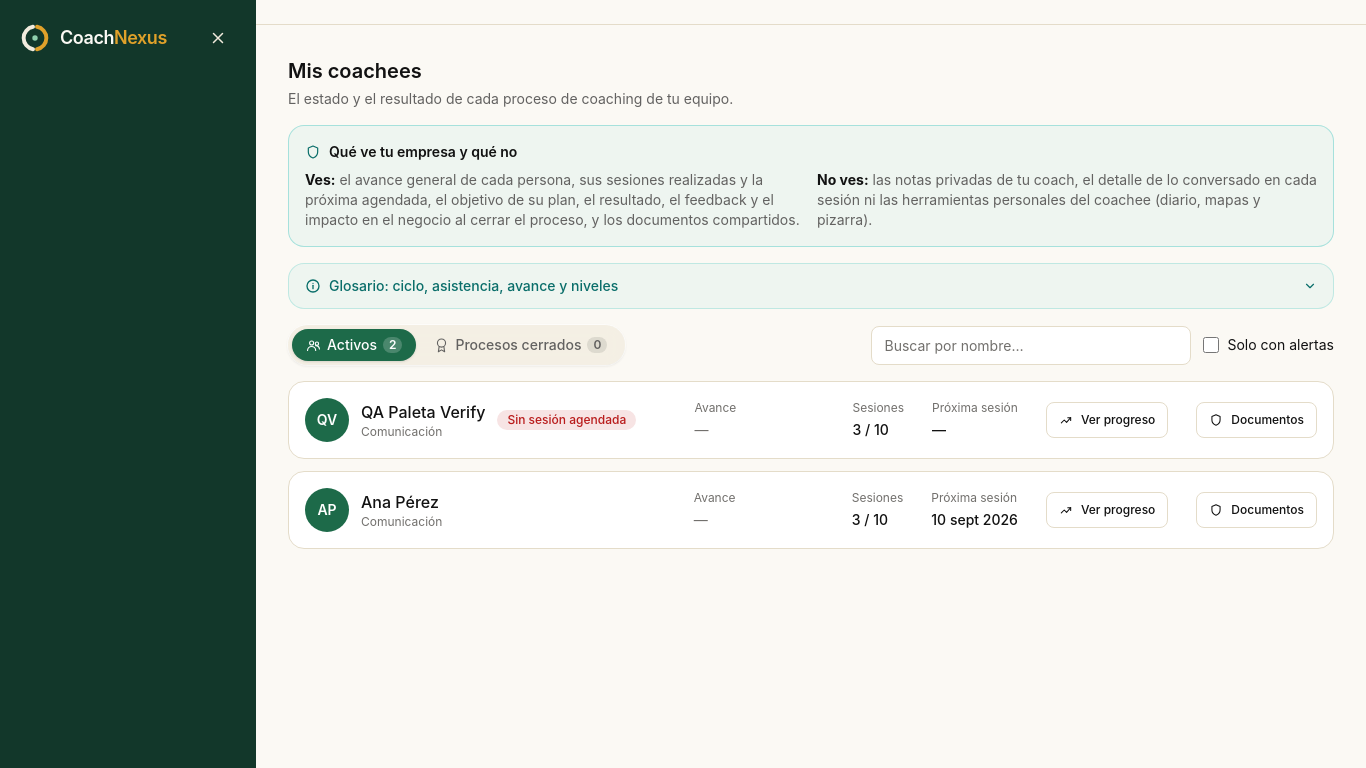
CoacheesView (empresa) › el filtro "Solo con alertas" deja solo a quienes tienen sesión sin agendar o ciclo por vencer
Click the checkbox labelled "Solo con alertas". click: point(1212, 345)
box: [1204, 337, 1220, 353]
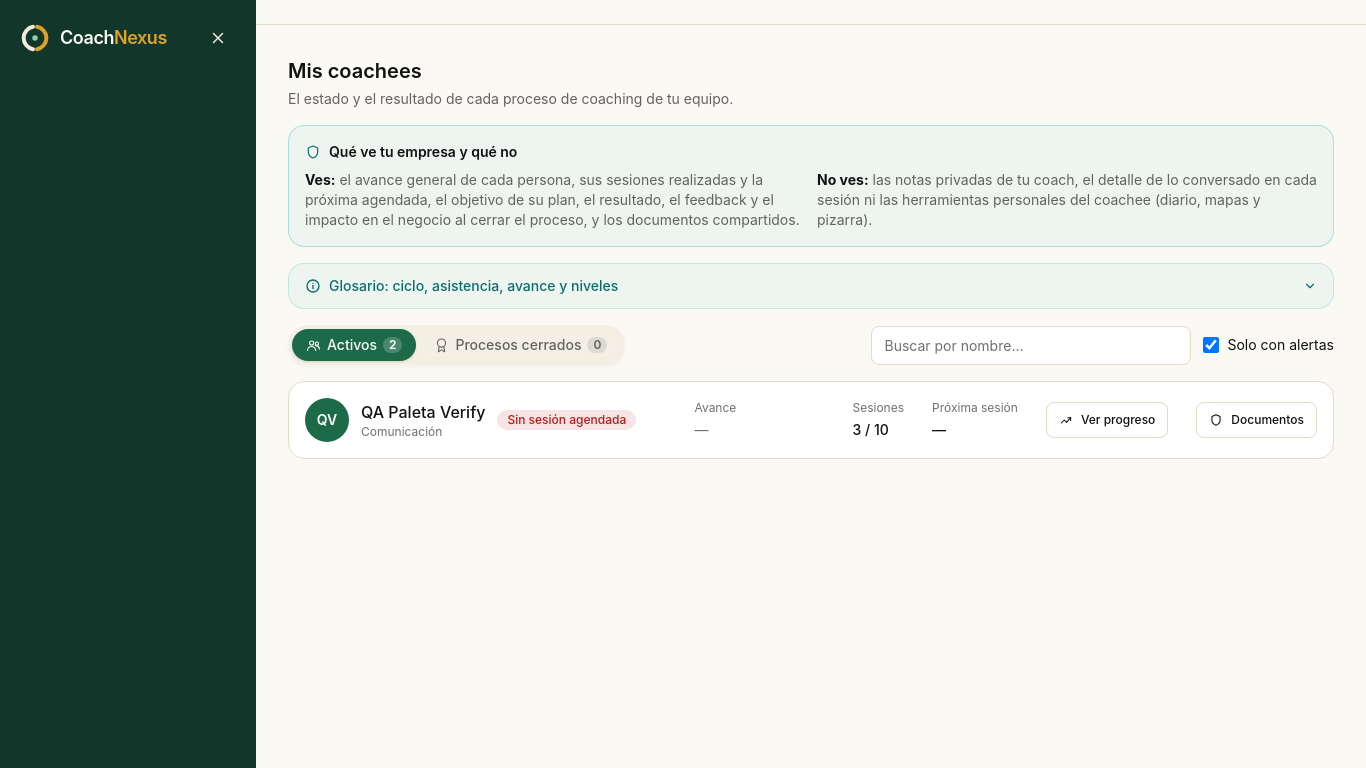
Expected: the text "QA Paleta Verify" is shown, [361, 400, 485, 424]
Now the text "Ana Pérez" is gone
